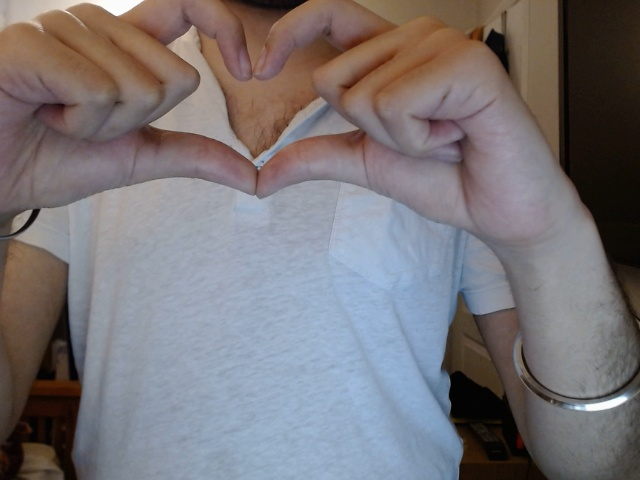Heart: (1, 1, 560, 249)
